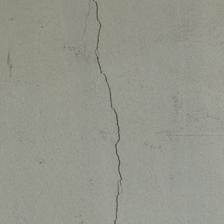Crack: (18, 7, 109, 118), (0, 0, 125, 32)
